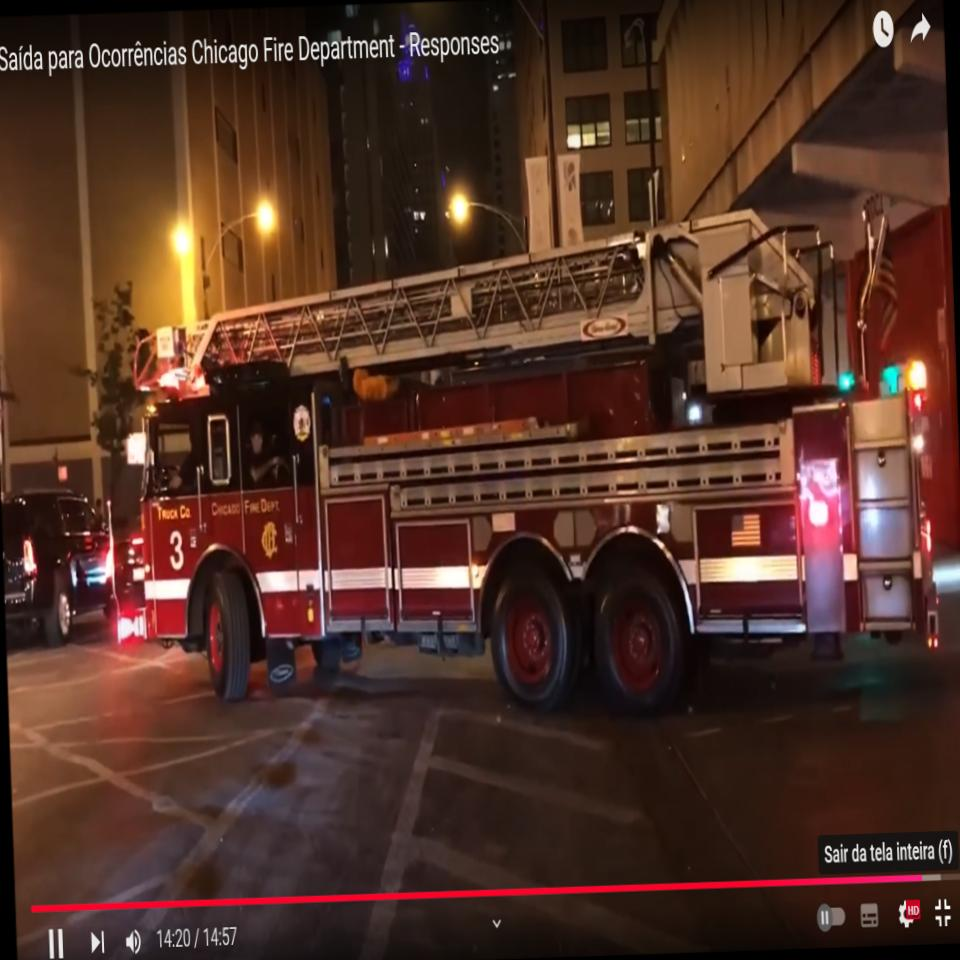viatura: (111, 206, 948, 738)
